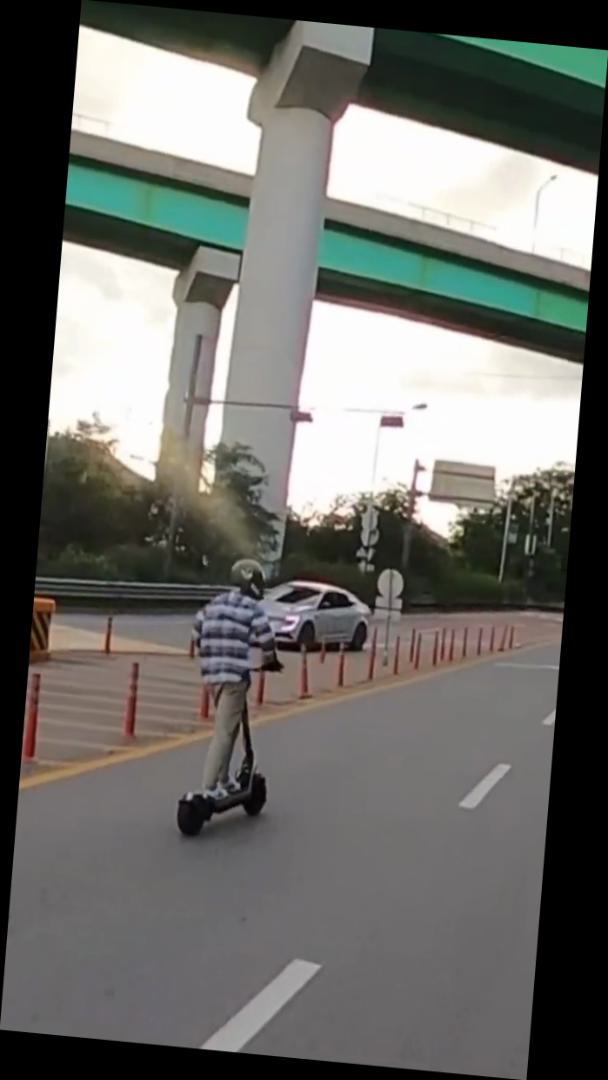helmet: (170, 551, 292, 842)
